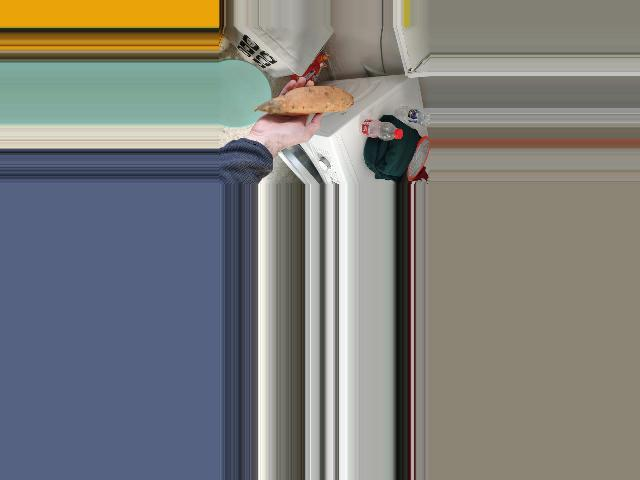sweet_potato: (259, 91, 345, 117)
